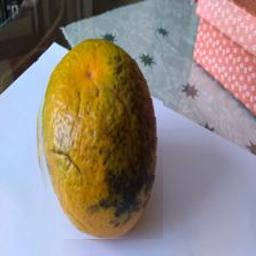Orange Semirotten: (33, 31, 163, 240)
